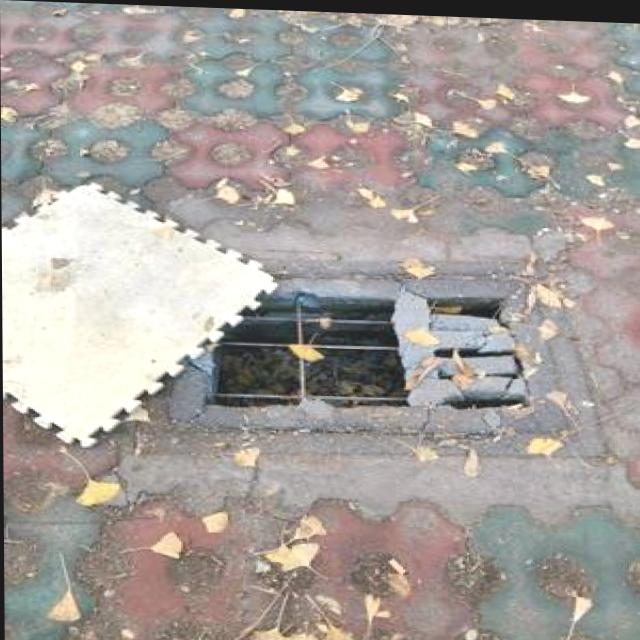manhole: (164, 272, 557, 427)
